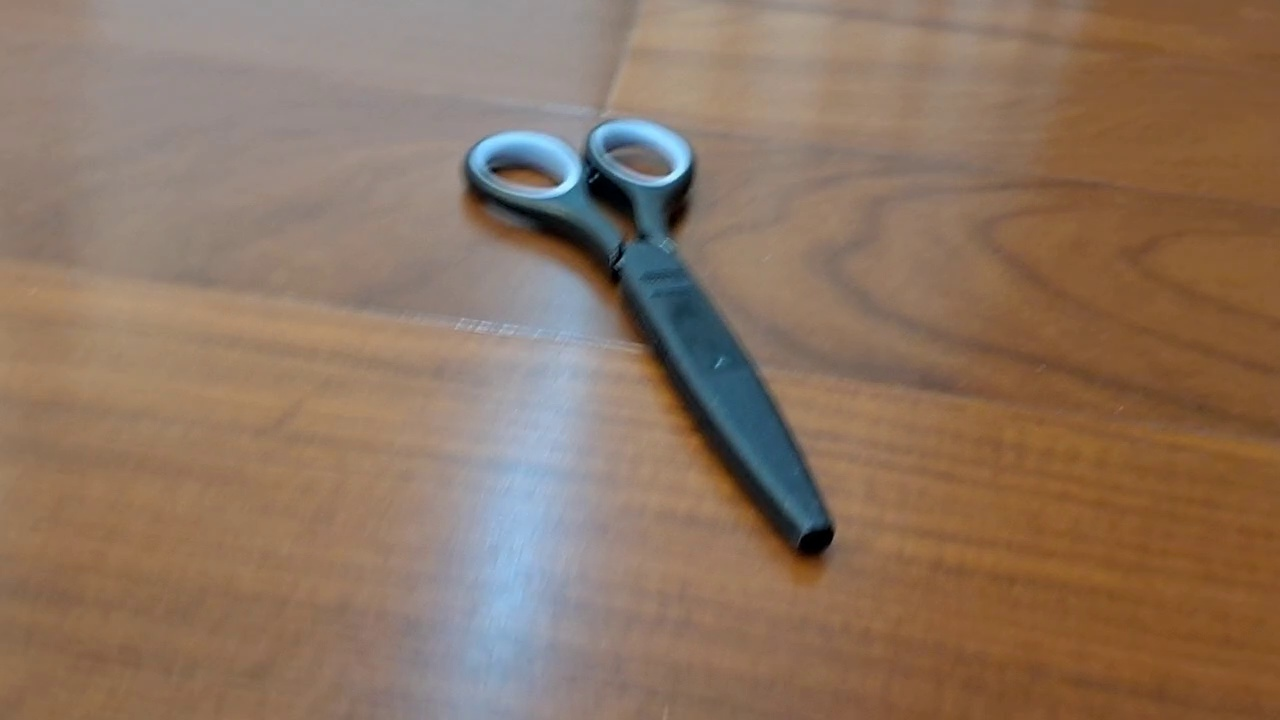scissors: (459, 115, 837, 558)
